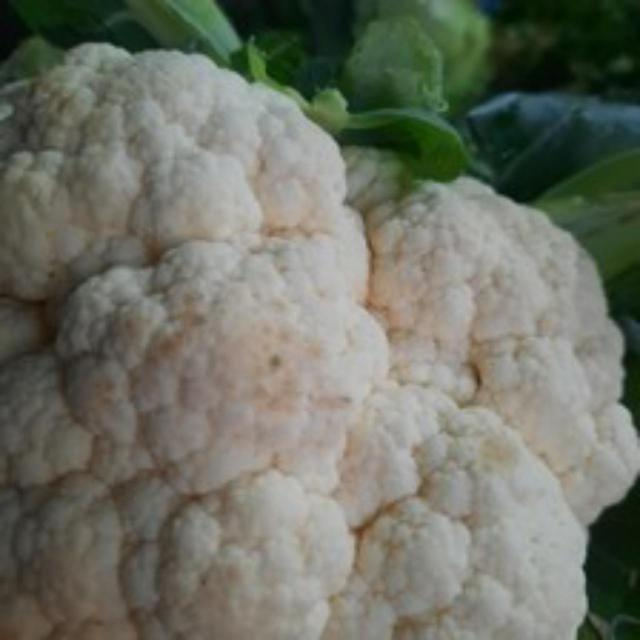cauliflower: (0, 37, 637, 637)
